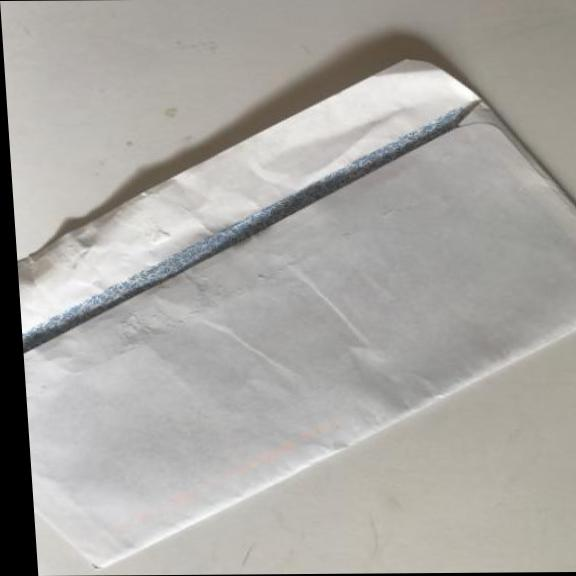Kertas: (4, 54, 576, 568)
